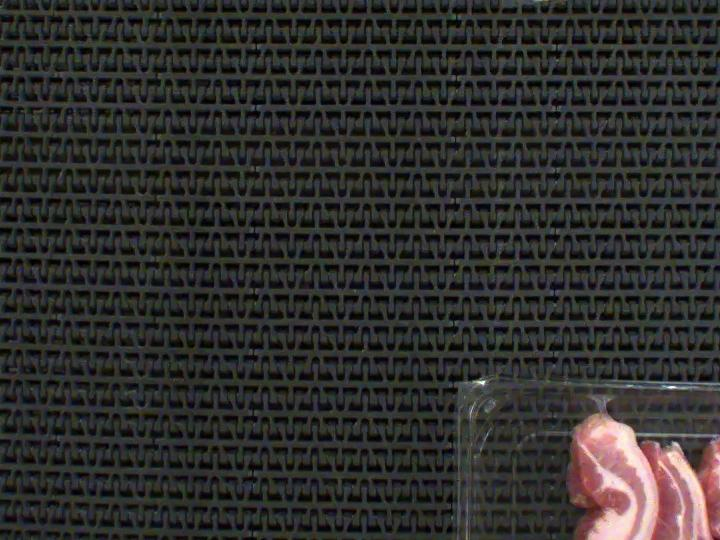packaging-error: (583, 387, 618, 417)
